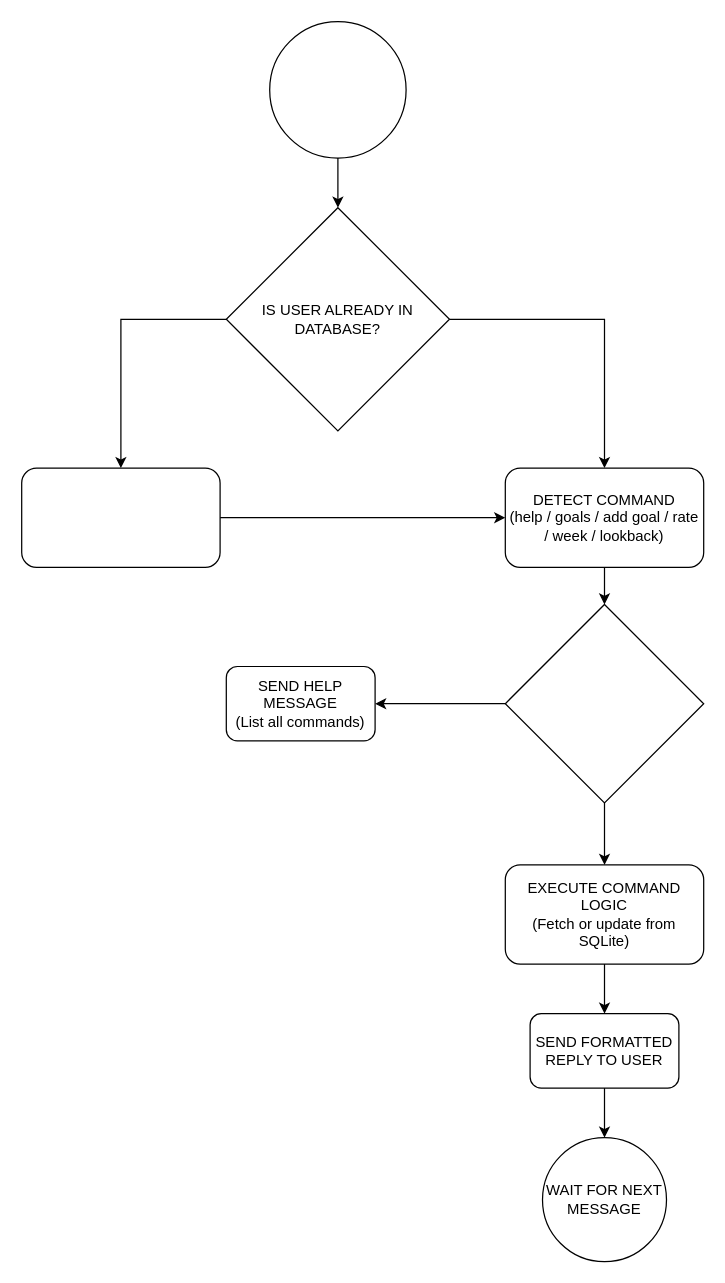
This 725x1283 diagram has some shape labels left out. The box of each missing label's shape, as (x1, y1, x2, y2) in pixels:
CREATE USER IN DB (Using WhatsApp Number): (20, 467, 220, 567)
IS COMMAND VALID?: (504, 603, 704, 803)
User SEND A WHATSAPP MESSAGE: (268, 20, 406, 158)
